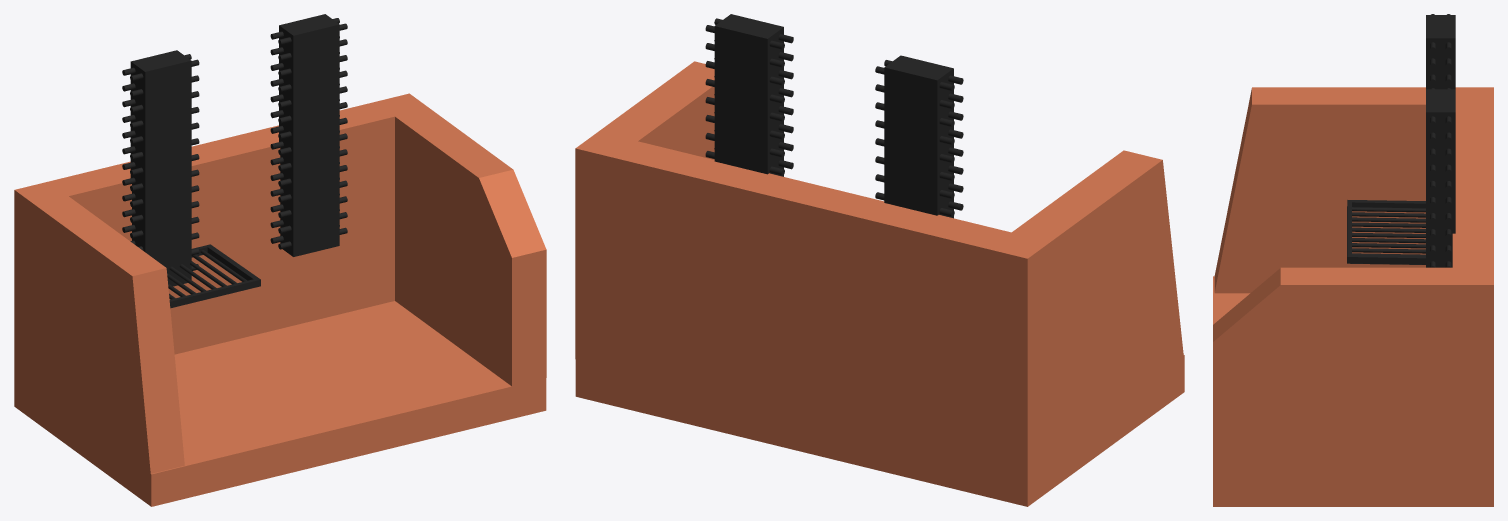
Rendered from parrilla_model.glb.
3 renders of one model, left to right at view 1: azimuth 30°, elevation 25°; view 2: azimuth 150°, elevation 25°; view 3: azimuth 270°, elevation 25°, orthographic. The views are drawn at different scales.
Parts seen in each view (by area): view 1: estructura, Base parrilla.003, Base parrilla.001, Parrilla cuadrado, Parrilla rejillas, Cylinder.012, Cylinder.013, Cylinder.004, Cylinder.005, Cylinder.015, Cylinder.006; view 2: estructura, Base parrilla.003, Base parrilla.001, Cylinder.004, Cylinder.013, Cylinder.005, Cylinder.012; view 3: estructura, Base parrilla.003, Parrilla rejillas, Base parrilla.001, Parrilla cuadrado, Cylinder.014, Cylinder.015.
Boxes of the visible parts, box(x1,y1,x2,y2) form: estructura: box(14, 93, 546, 506); Base parrilla.003: box(279, 14, 339, 256); Base parrilla.001: box(130, 50, 191, 286); Parrilla cuadrado: box(169, 244, 260, 308); Parrilla rejillas: box(167, 250, 247, 299); Cylinder.012: box(278, 37, 291, 249); Cylinder.013: box(270, 31, 283, 243); Cylinder.004: box(122, 67, 135, 244); Cylinder.005: box(130, 73, 143, 250); Cylinder.015: box(339, 23, 347, 234); Cylinder.006: box(191, 59, 199, 270); estructura: box(575, 61, 1184, 506); Base parrilla.003: box(714, 14, 783, 176); Base parrilla.001: box(884, 55, 953, 218); Cylinder.004: box(939, 82, 954, 216); Cylinder.013: box(769, 40, 784, 175); Cylinder.005: box(948, 75, 963, 210); Cylinder.012: box(778, 34, 793, 169); estructura: box(1213, 87, 1493, 506); Base parrilla.003: box(1426, 89, 1455, 267); Parrilla rejillas: box(1352, 207, 1425, 255); Base parrilla.001: box(1426, 15, 1455, 89); Parrilla cuadrado: box(1347, 200, 1425, 264); Cylinder.014: box(1445, 116, 1451, 267); Cylinder.015: box(1430, 116, 1435, 267).
Size of the model in its own units: 4.02 by 3.26 by 2.41.
